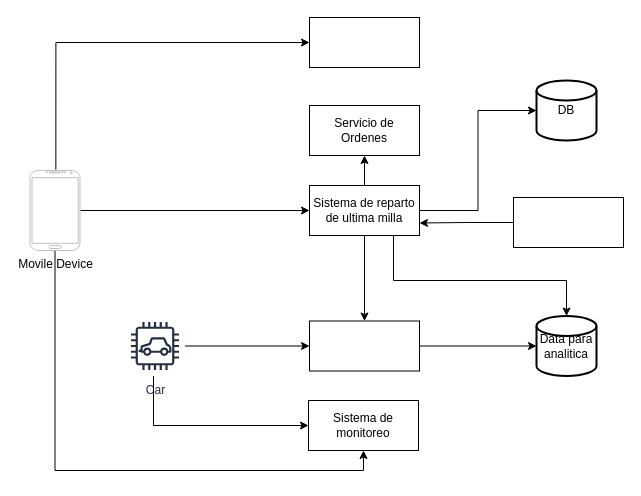
The diagram is 641 pixels wide and 496 high, and some of its shapes have lost their labels. Each missing label, with the centre of its shape:
"Cache y seguridad" goes at (x=364, y=42).
"Servicio de localización" goes at (x=568, y=222).
"Sistema de analitica" goes at (x=364, y=345).
